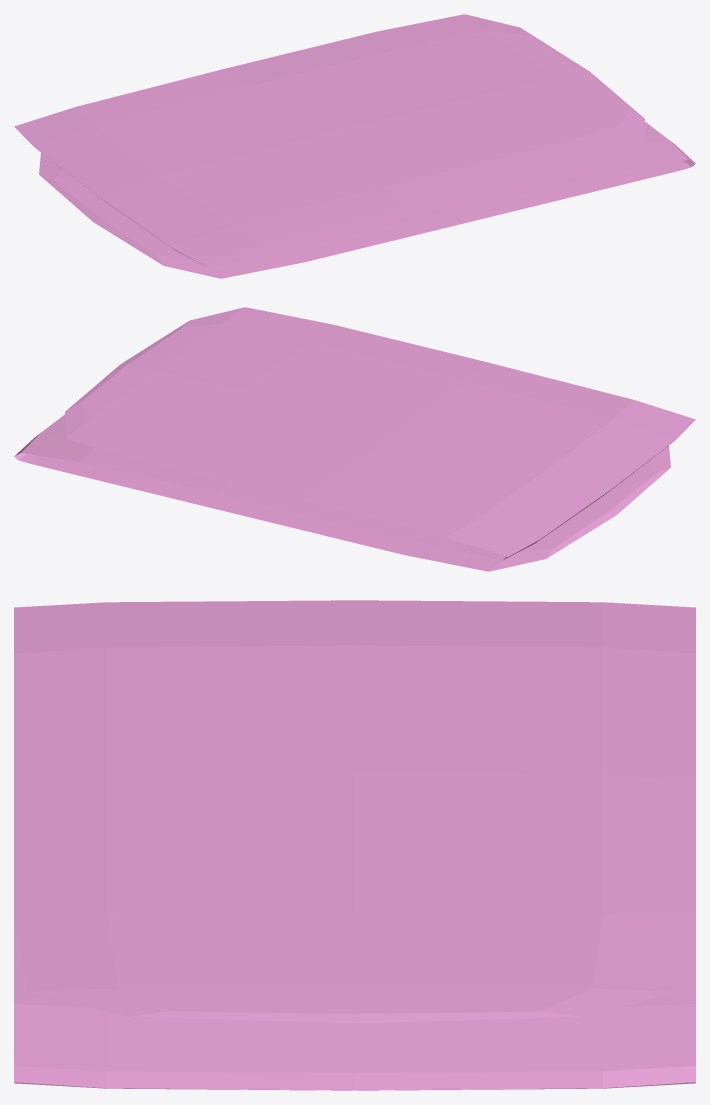
The model's file is Towel_001.fbx.
The picture shows the model from 3 angles, top to bottom: view 1: azimuth 30°, elevation 25°; view 2: azimuth 150°, elevation 25°; view 3: azimuth 270°, elevation 25°; orthographic projection. The views are drawn at different scales.
Parts seen in each view (by area): view 1: Towel.001; view 2: Towel.001; view 3: Towel.001.
Boxes of the visible parts, x1,y1,x2,y2 form: Towel.001: (14, 14, 695, 278); Towel.001: (14, 307, 695, 571); Towel.001: (14, 600, 695, 1090).
Size of the model in its own units: 97.65 by 6.26 by 61.6.
